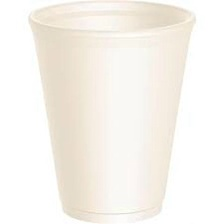paper_cup: (23, 0, 200, 224)
